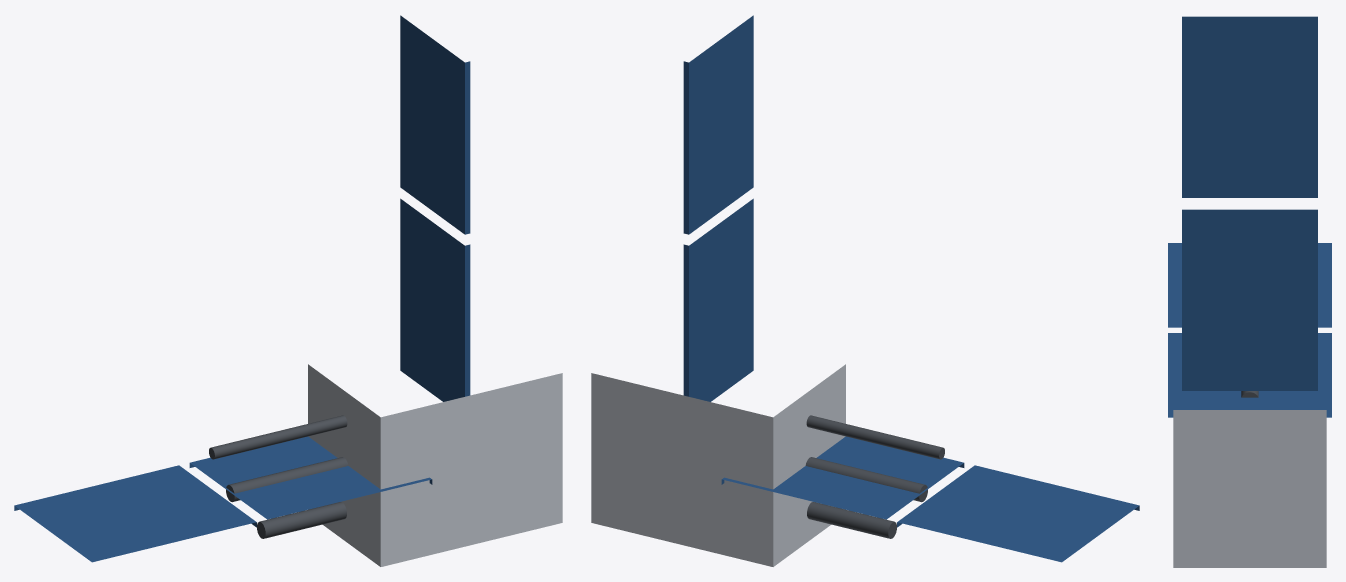
3 views of the same model, side by side, from view 1: azimuth 30°, elevation 25°; view 2: azimuth 150°, elevation 25°; view 3: azimuth 270°, elevation 25° (orthographic). The views are drawn at different scales.
Bounding box in the file's own units: 8.92 × 8.65 × 2.54.
